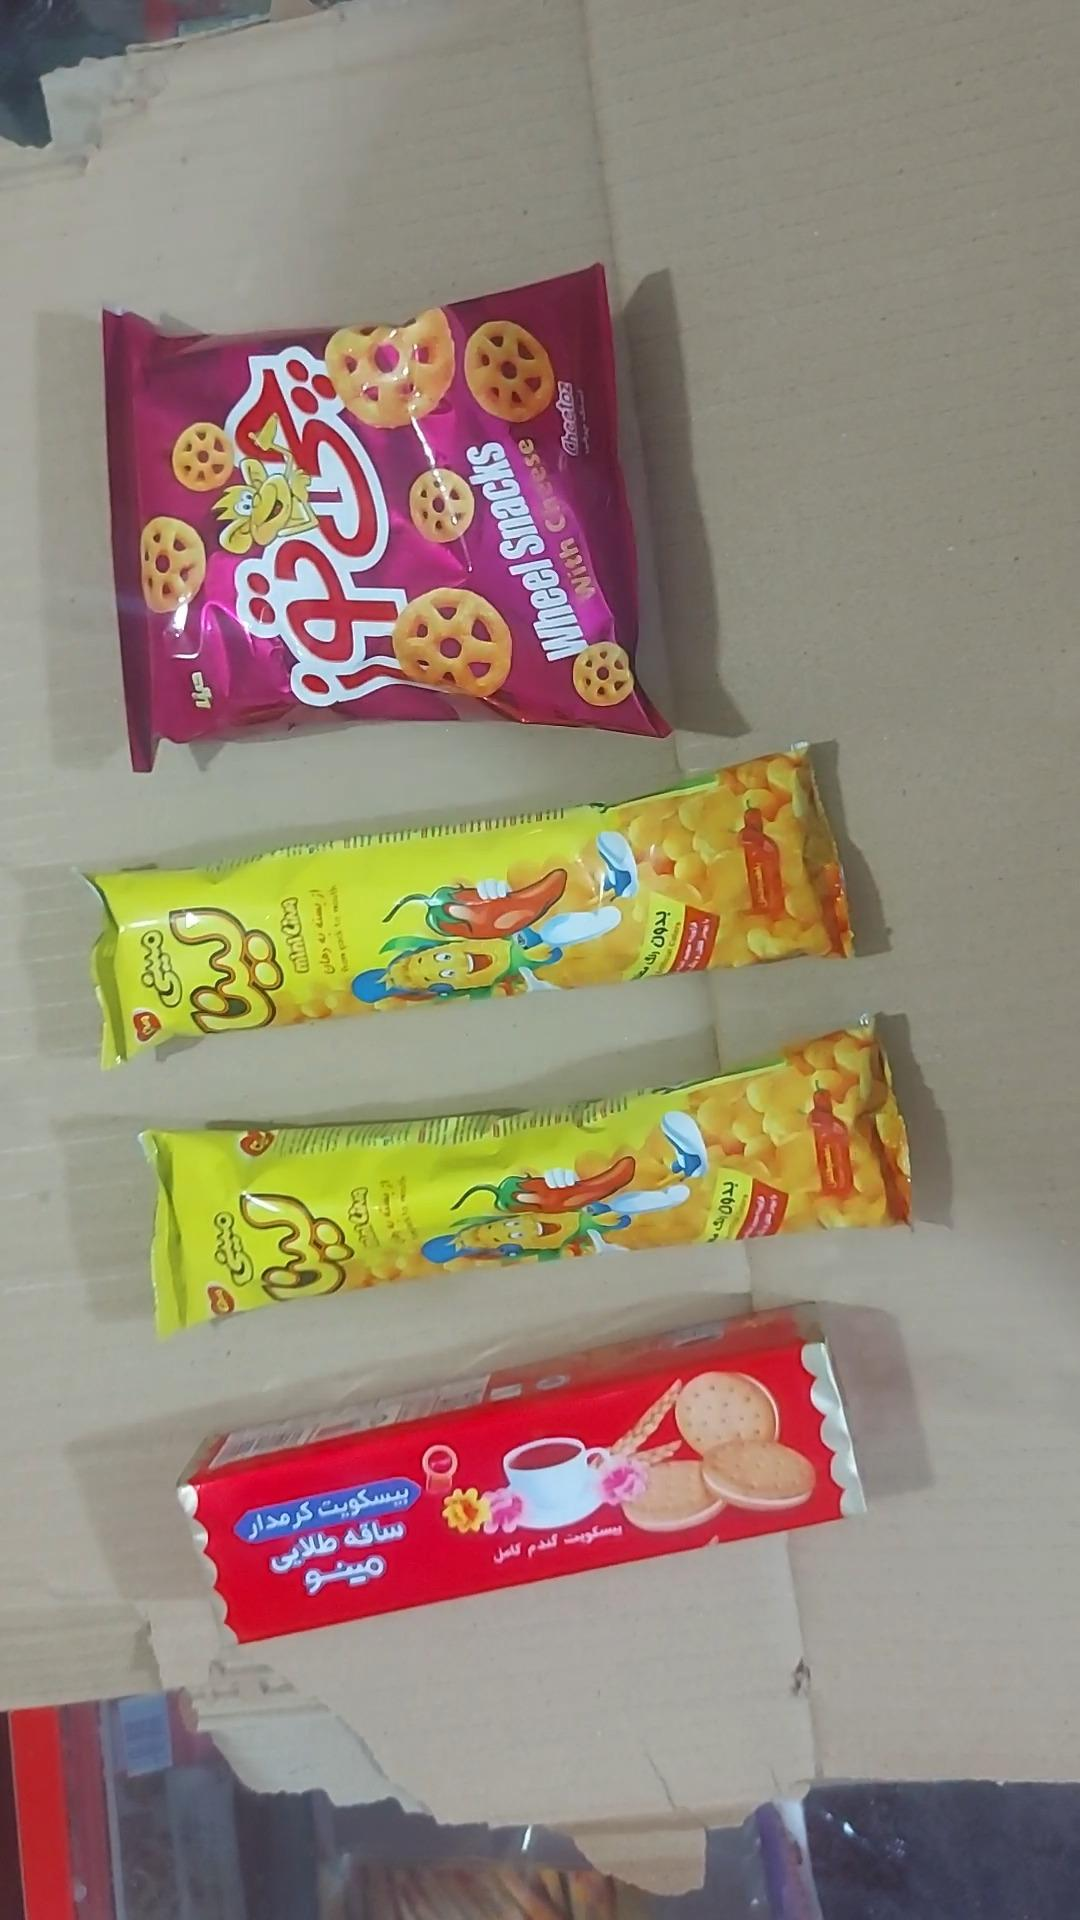Cheetoz wheelsnack: (104, 266, 669, 771)
Mini Lina: (140, 1025, 910, 1335), (88, 752, 853, 1063)
Minoo cream biscuit: (179, 1311, 865, 1644)
